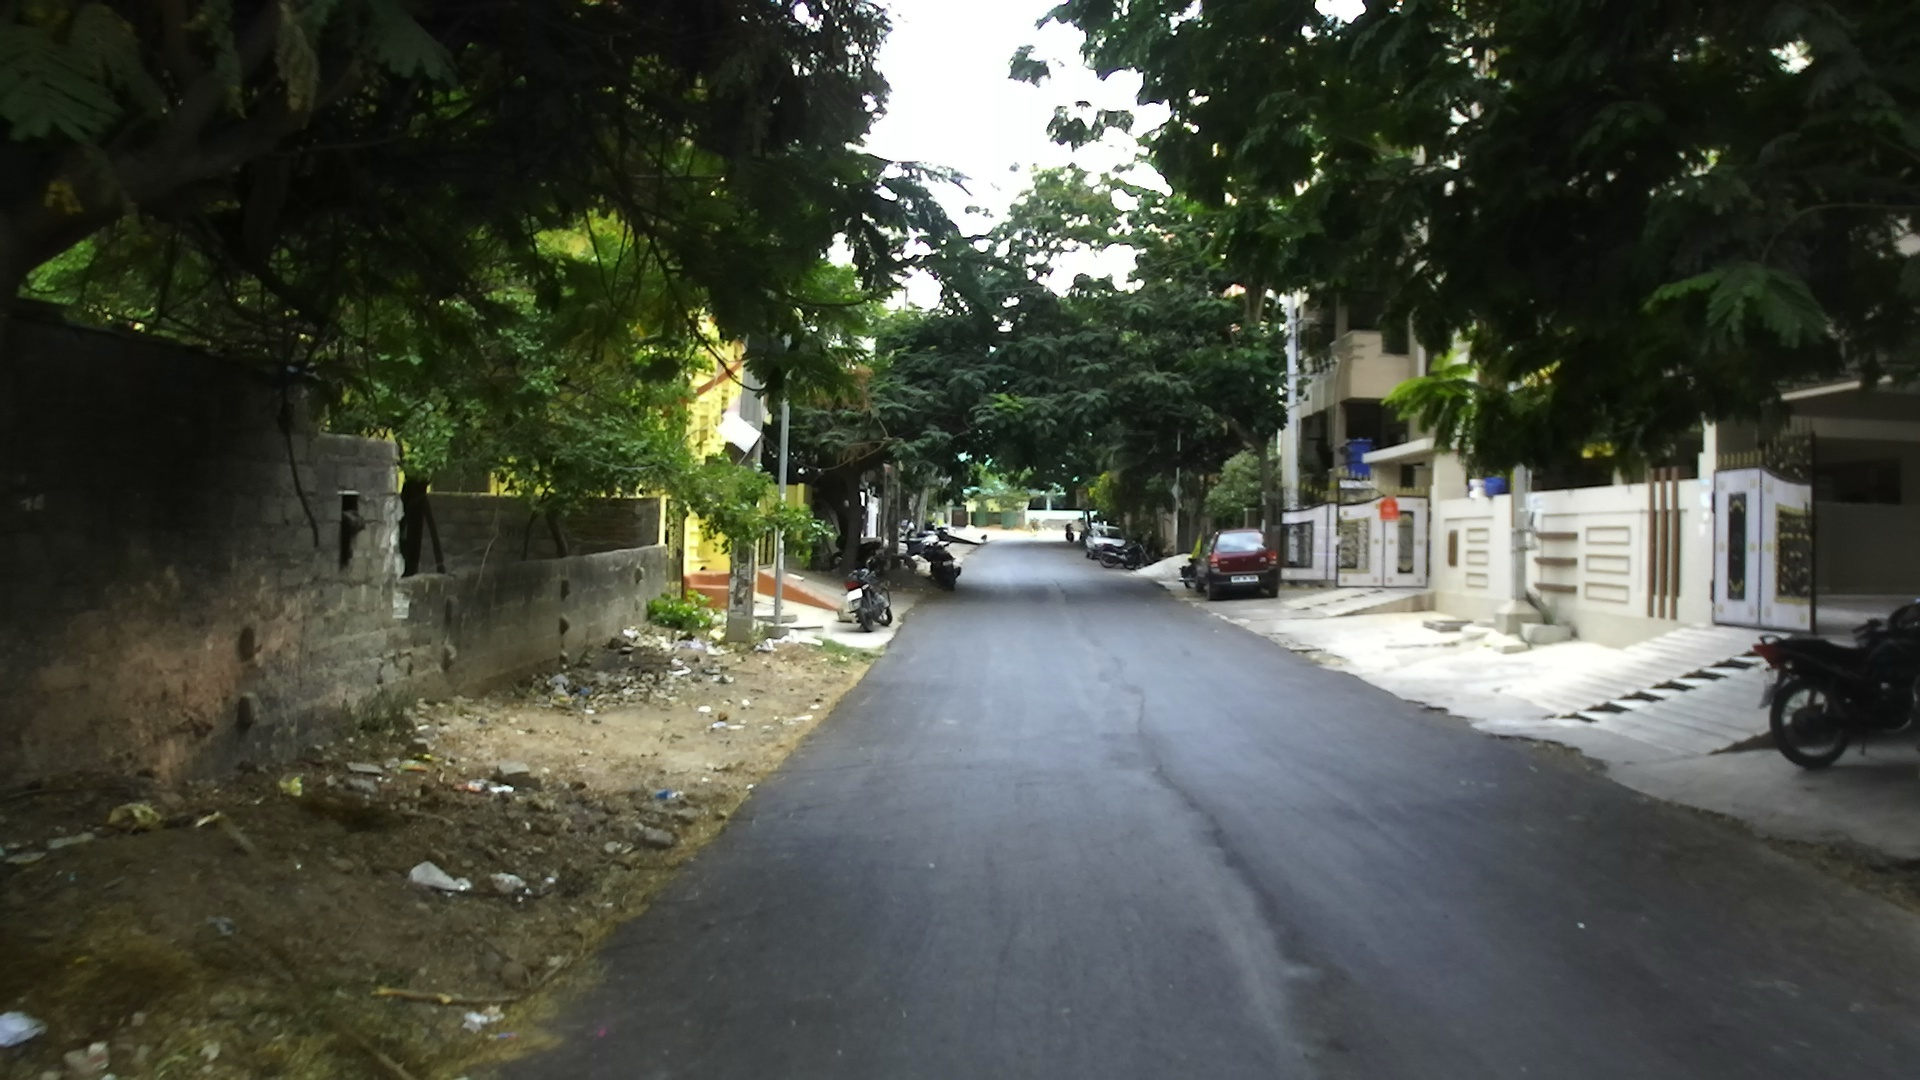vehicle: (1750, 593, 1919, 771), (1201, 529, 1280, 597), (1084, 529, 1131, 567)
